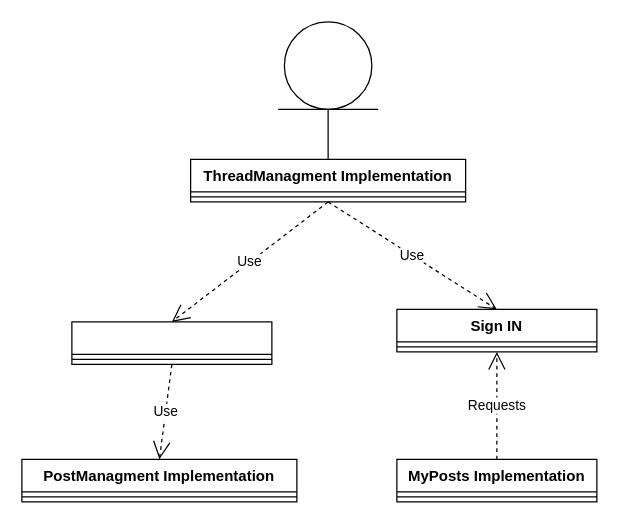
The diagram is 619 pixels wide and 524 high, and some of its shapes have lost their labels. Each missing label, with the box of its shape:
Open Thread: (71, 321, 272, 364)
Thread Managment: (283, 21, 372, 109)
